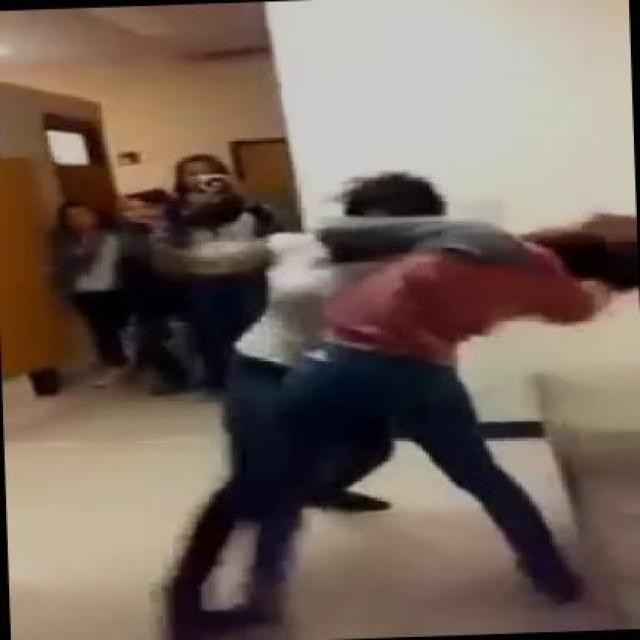fight: (163, 168, 640, 632)
non-fight: (161, 153, 283, 401)
